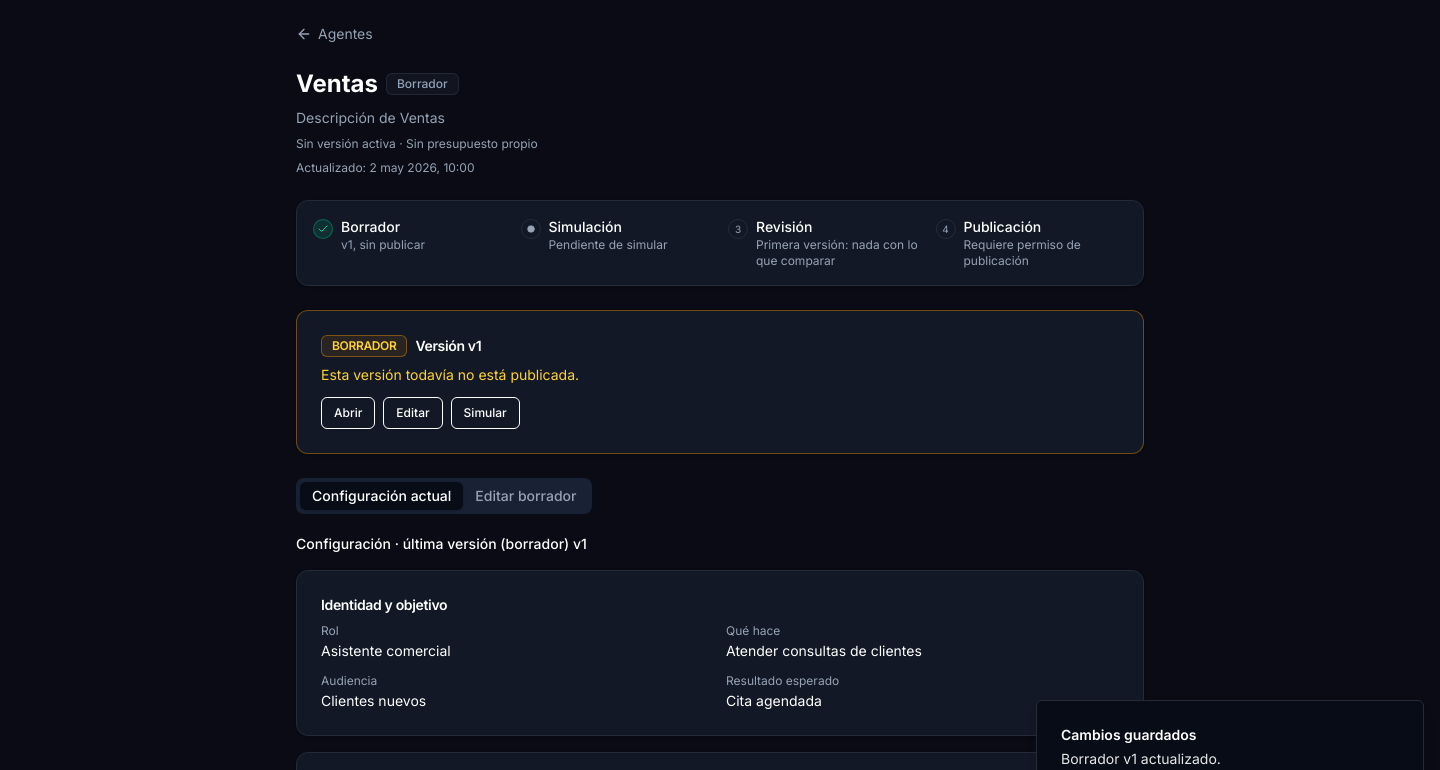
Test: Selector de modelo › MODELO LEGACY: se conserva, se avisa y no se borra al abrir ni al guardar otra cosa
The image size is (1440, 770).
Press the mouse on the tab "Editar borrador" at (526, 496), box [463,482,588,510]
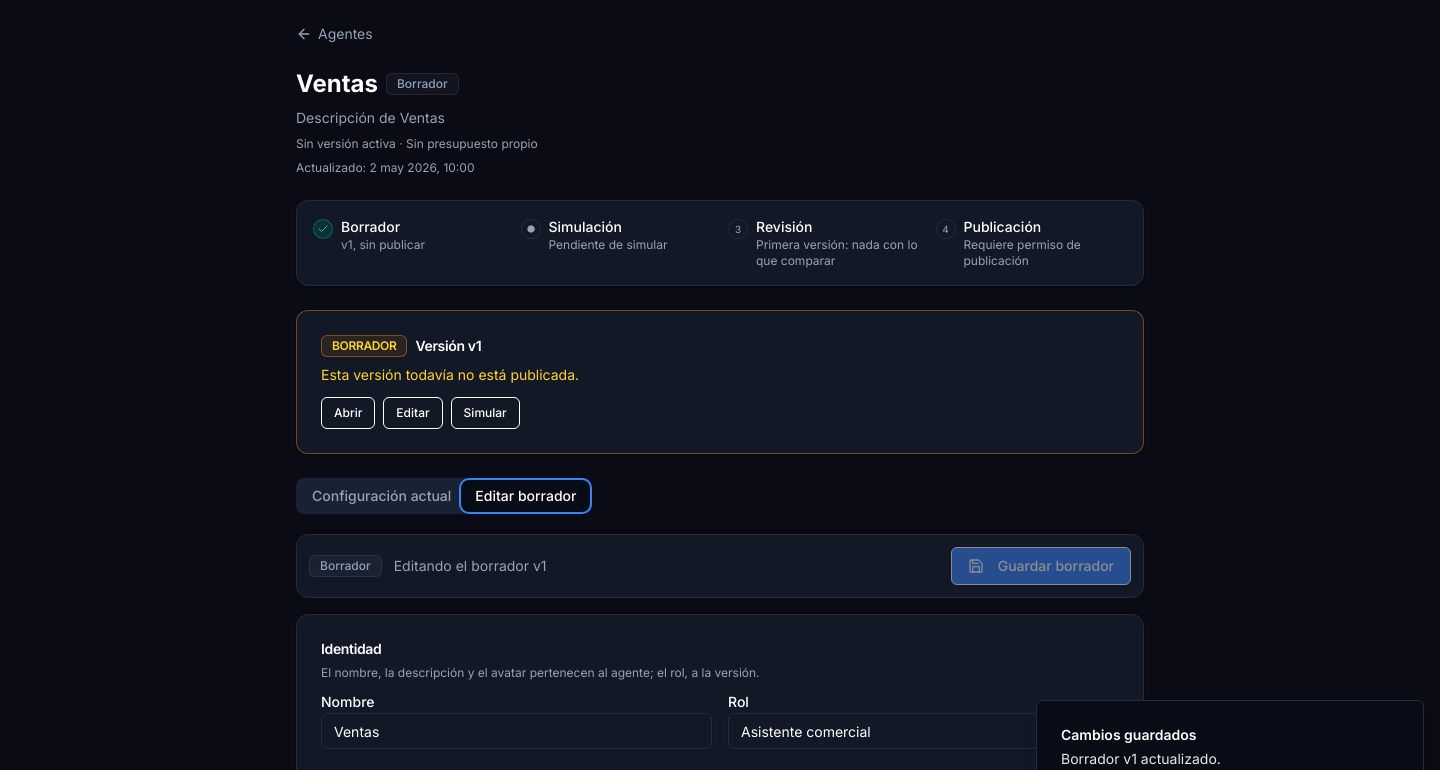
Replace the text in the field labelled "Rol" with "Otro rol" at (924, 731), box [728,713,1119,749]
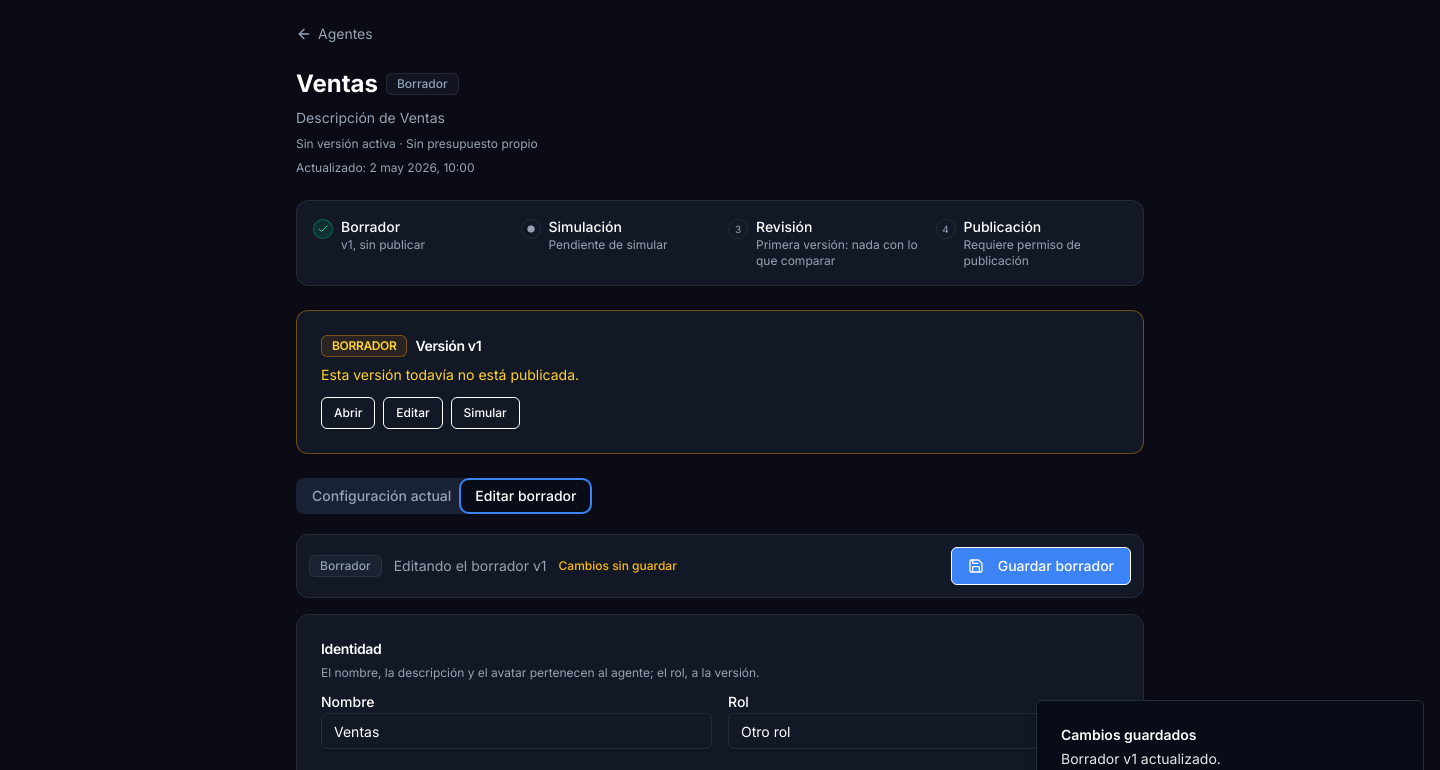
Click the button with test id "save-draft-button" at (1041, 566), box [951,547,1131,585]
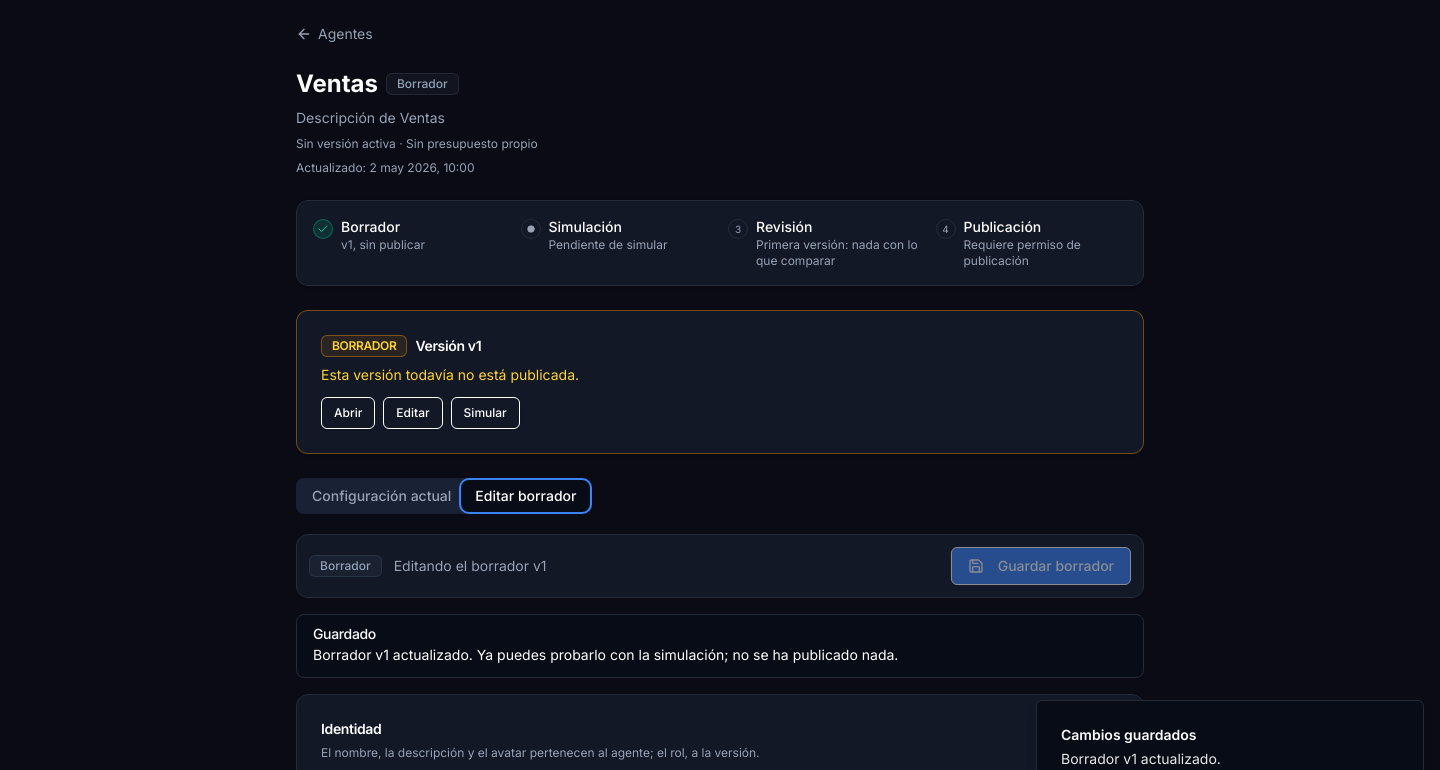
Result: the message with test id "save-result" is shown at [296,614,1144,678]
